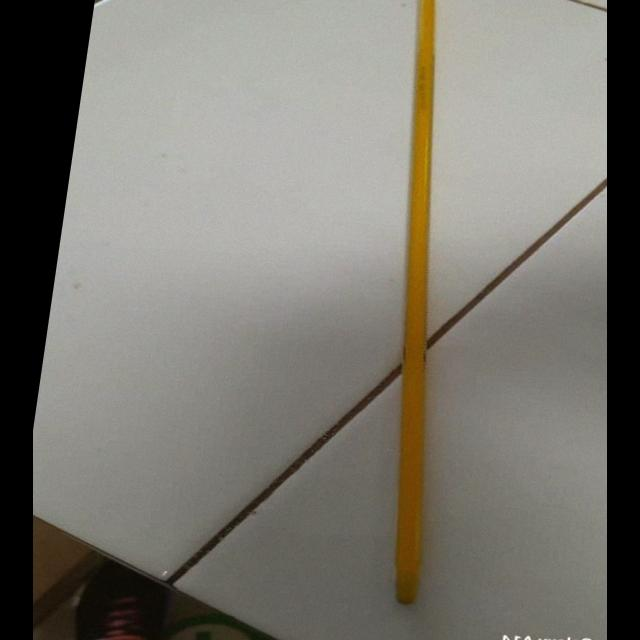Thermometer: (309, 0, 514, 609)
